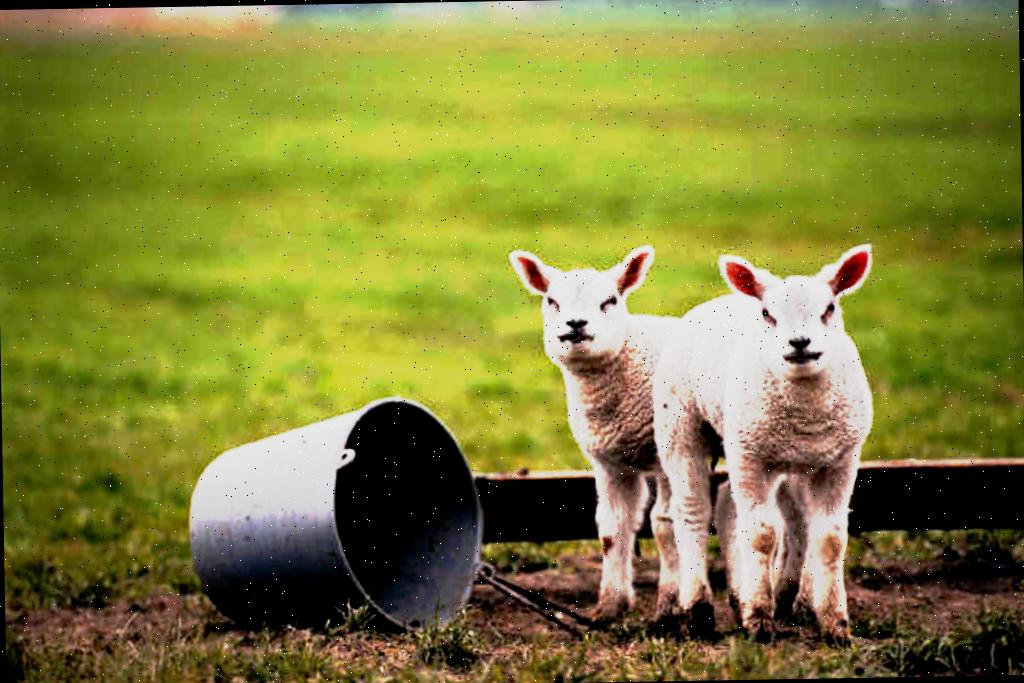Sheep: (647, 243, 878, 643), (506, 243, 732, 620)
